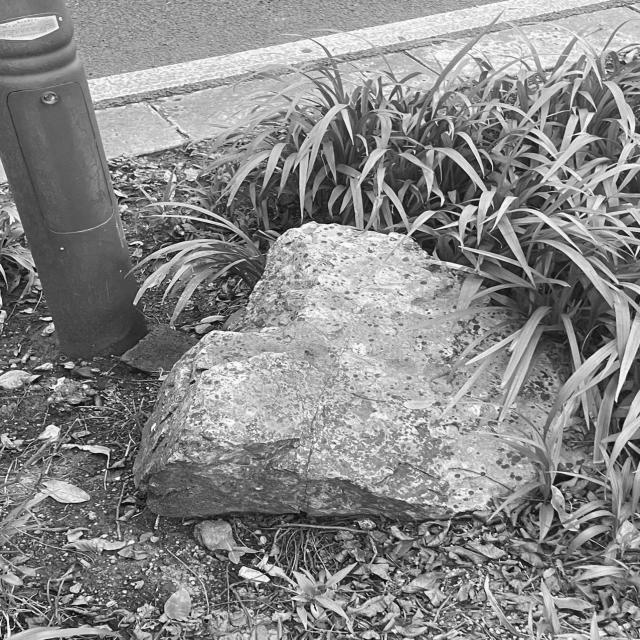Stone: (135, 222, 533, 520)
